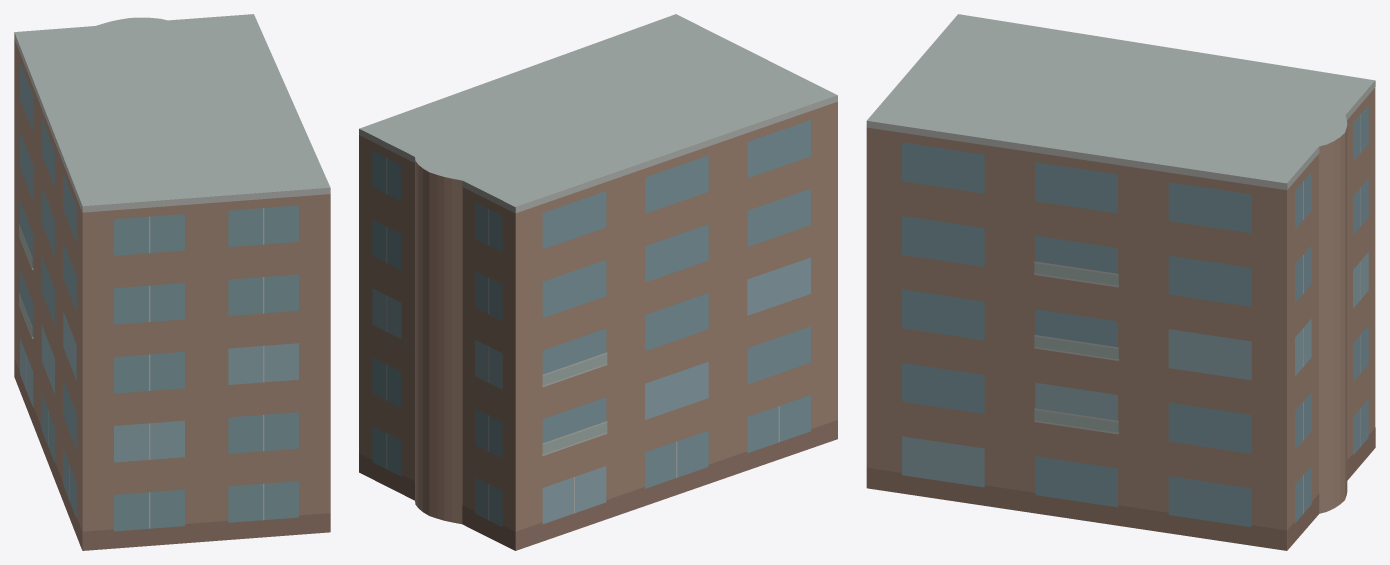
File: survey-upis-32884961.glb
3 views of the same model, side by side, from view 1: azimuth 30°, elevation 25°; view 2: azimuth 150°, elevation 25°; view 3: azimuth 270°, elevation 25° (orthographic). The views are drawn at different scales.
Parts seen in each view (by area): view 1: survey-upis-32884961.tmp; view 2: survey-upis-32884961.tmp; view 3: survey-upis-32884961.tmp.
Part boxes in pixels (<box>): survey-upis-32884961.tmp: <box>14,14,330,550</box>; survey-upis-32884961.tmp: <box>359,14,837,550</box>; survey-upis-32884961.tmp: <box>866,14,1375,550</box>.
Size of the model in its own units: 13.16 by 13.3 by 16.7.
